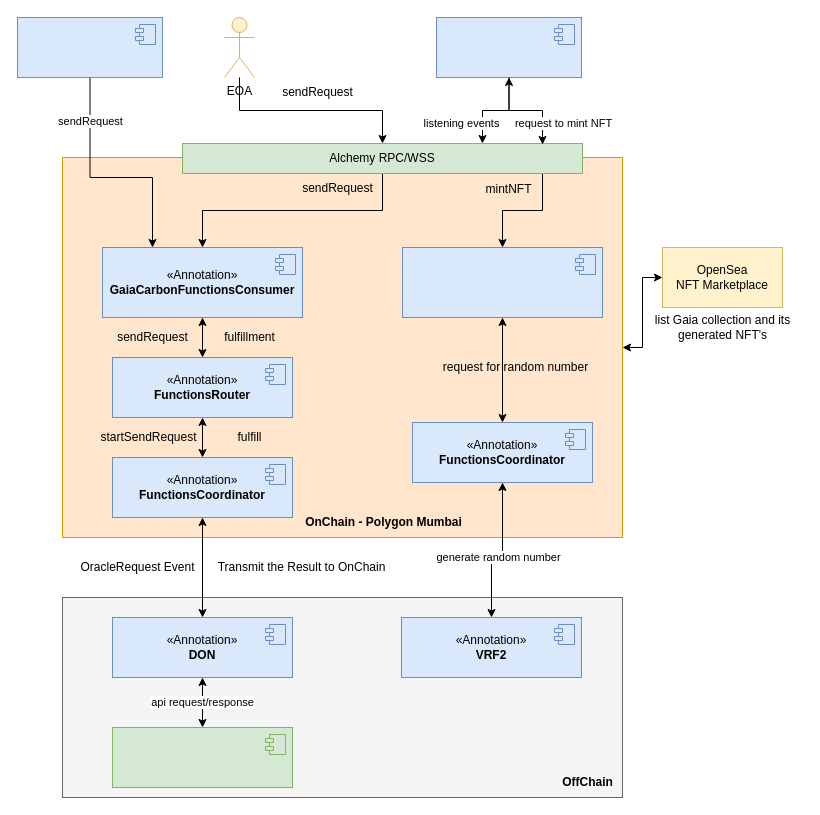
The diagram is 820 pixels wide and 815 high, and some of its shapes have lost their labels. The shapes that lost their labels are listed below. From the top down, each one's centre as x and y in pixels, then its label:
At (x=89, y=47): "«Annotation» ChainlinkAutomation (not implemented)".
At (x=509, y=47): "«Annotation» OnChainListener EventServer".
At (x=502, y=282): "«Annotation» GaiaCarbonNFT".
At (x=202, y=757): "«Annotation» NFE Service".
